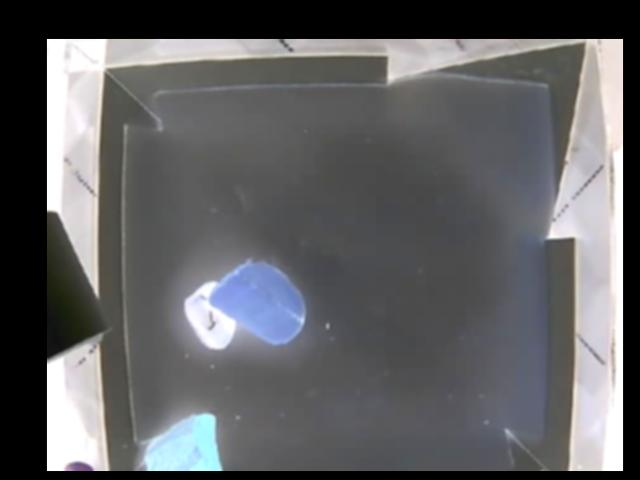Brisk: (145, 413, 223, 470)
Pebble: (185, 277, 235, 350)
Potato: (215, 262, 308, 345)
